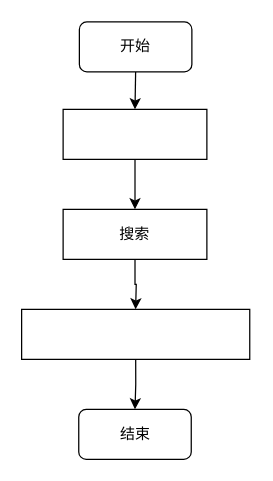
Image size: 273x481. Some labels were removed from this diagram. The shapes that lost their labels are listed below. From the top down, each one's centre as x and y in pixels, then its label:
point (134, 133): 输入用户名
point (135, 333): 展示用户注册信息、审核状态/结果
